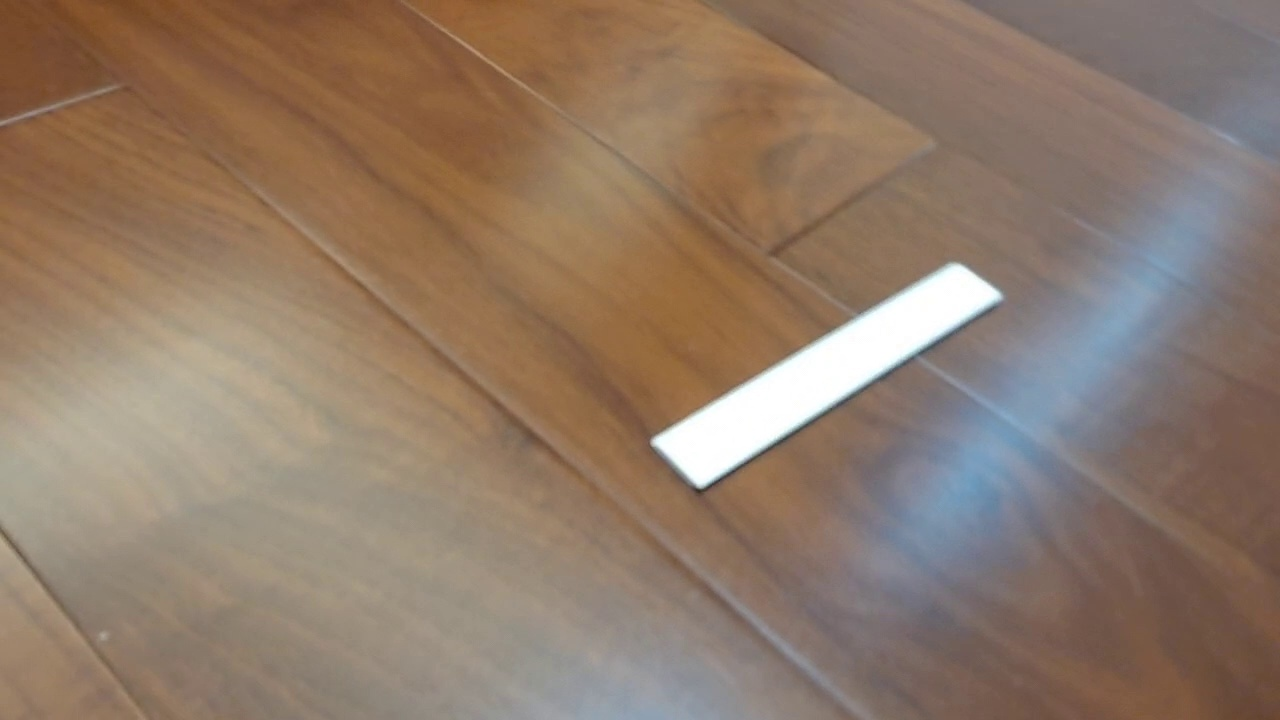ruler: (647, 259, 1007, 495)
